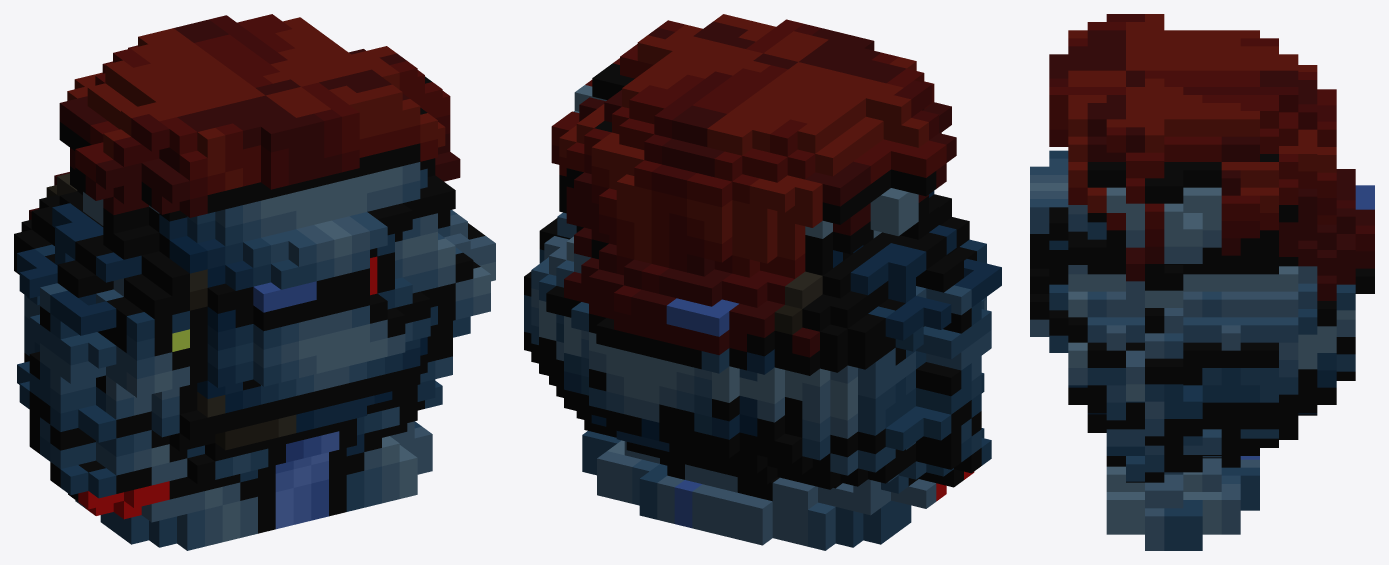
Rendered from Icon_740_02.obj.
3 views of the same model, side by side, from view 1: azimuth 30°, elevation 25°; view 2: azimuth 150°, elevation 25°; view 3: azimuth 270°, elevation 25° (orthographic). The views are drawn at different scales.
Bounding box in the file's own units: 2.4 × 2.3 × 1.8.
Materials: 1 (1 with a texture image).
